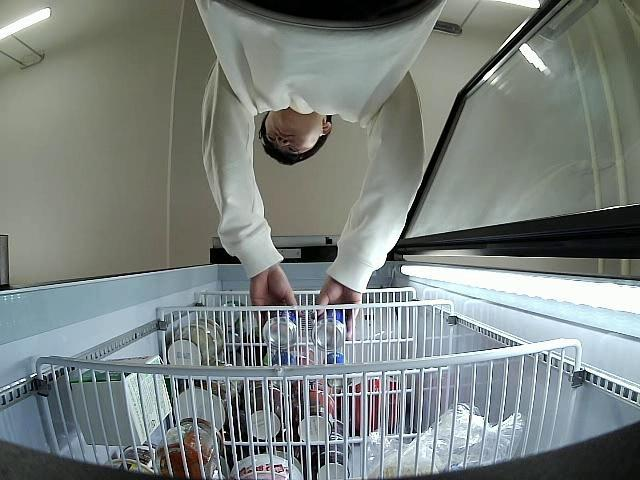13_pocariSweat: (259, 304, 300, 351), (310, 303, 348, 352)
